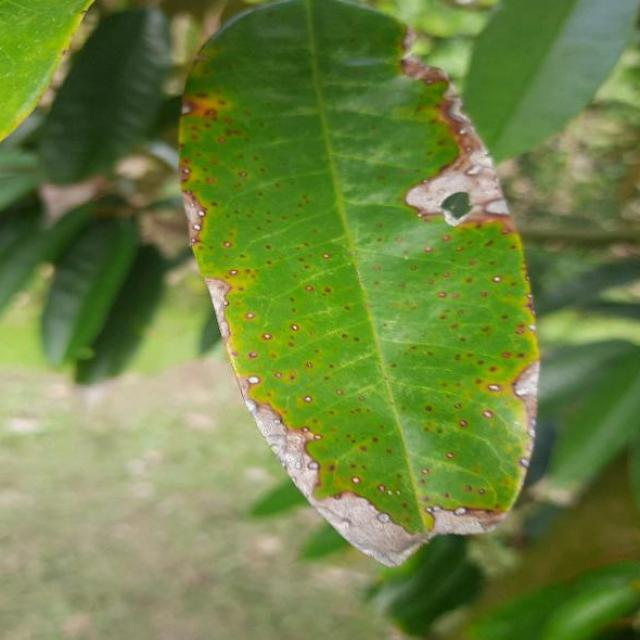Leaf Spot: (153, 0, 560, 579)
